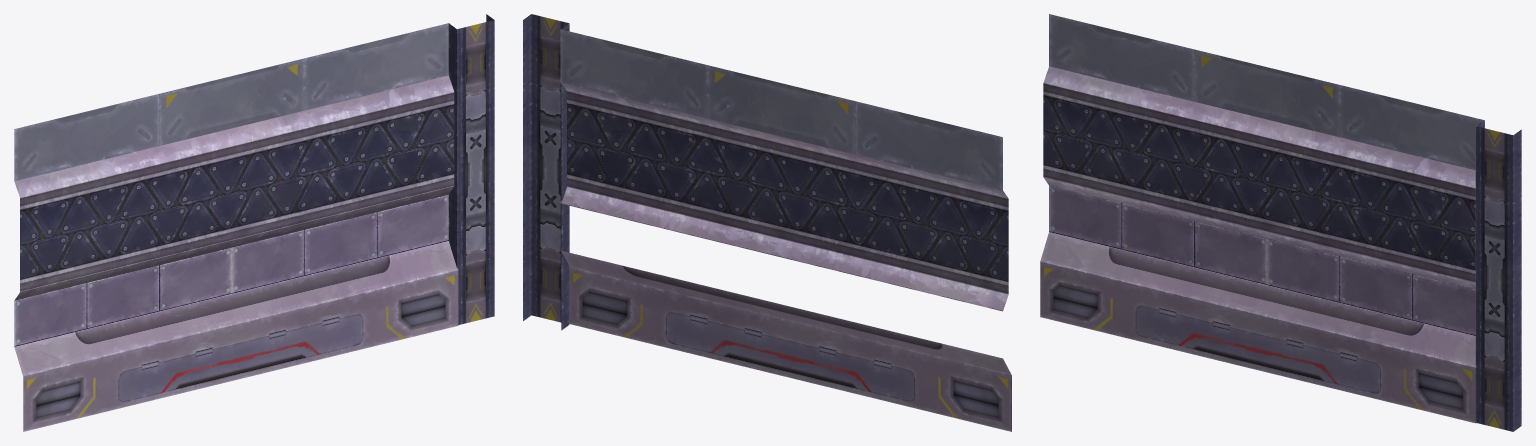
Rendered from SM_TrimWall_01.fbx.
The picture shows the model from 3 angles, left to right: view 1: azimuth 30°, elevation 25°; view 2: azimuth 150°, elevation 25°; view 3: azimuth 330°, elevation 25°; orthographic projection.
Visible parts, largest first — view 1: SM_TrimWall_01; view 2: SM_TrimWall_01; view 3: SM_TrimWall_01.
Part boxes in pixels (x1,y1,x2,y2): SM_TrimWall_01: (14,14,494,431); SM_TrimWall_01: (523,14,1011,431); SM_TrimWall_01: (1040,14,1521,431).
Bounding box in the file's own units: 500 × 300 × 16.17.
